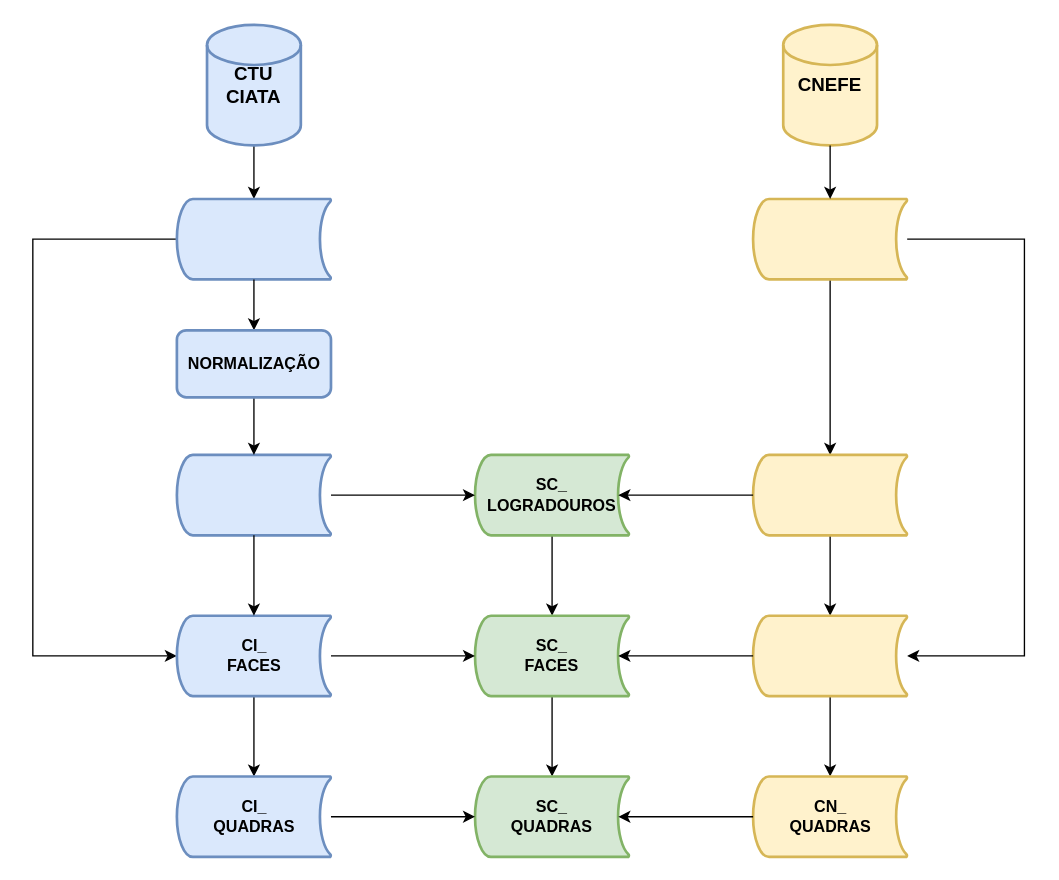
Some shapes in this 1059 by 880 pixel diagram are drawn without their labels. The centre of each missing label's shape, as x and y in pixels:
CI_ LOGRADOUROS: (253,494)
CI_ LOTES: (253,238)
CN_ FACES: (829,655)
CN_ LOGRADOUROS: (829,494)
CN_ PONTOS_ ÚNICOS: (829,238)
